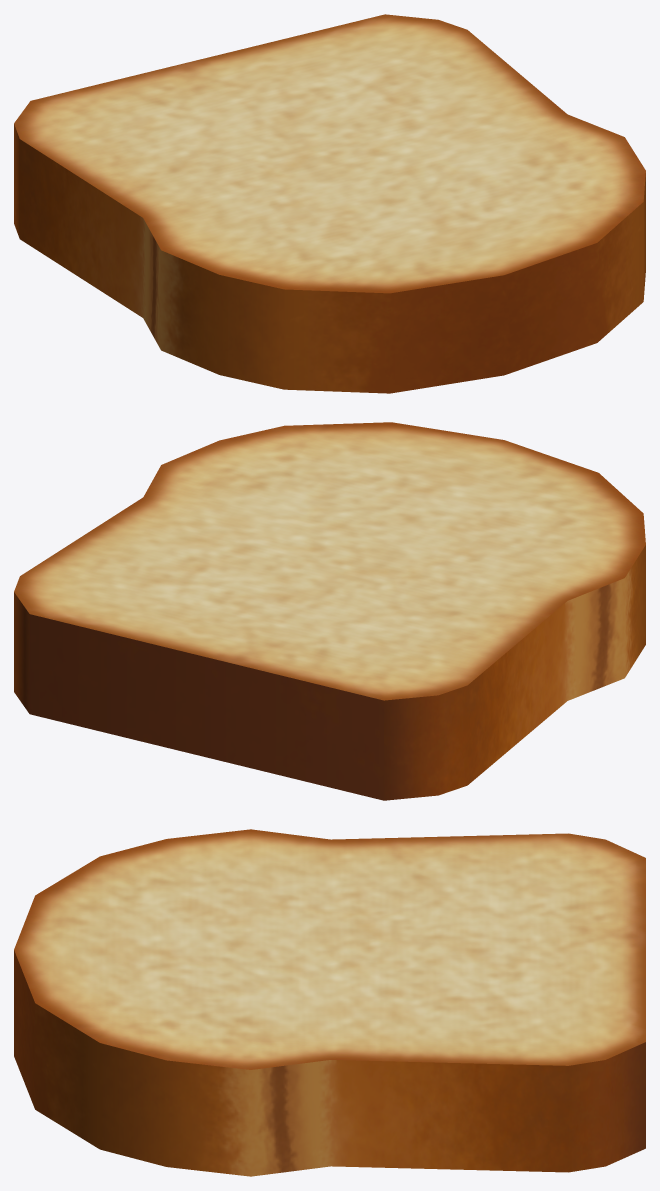
File: Loaf_Slice.fbx
The picture shows the model from 3 angles, top to bottom: view 1: azimuth 30°, elevation 25°; view 2: azimuth 150°, elevation 25°; view 3: azimuth 270°, elevation 25°; orthographic projection. The views are drawn at different scales.
Parts seen in each view (by area): view 1: Loaf_Slice; view 2: Loaf_Slice; view 3: Loaf_Slice.
Part boxes in pixels (box(x1,y1,x2,y2)): Loaf_Slice: box(14, 14, 645, 393); Loaf_Slice: box(14, 422, 645, 800); Loaf_Slice: box(14, 829, 645, 1176).
Size of the model in its own units: 39.11 by 8.08 by 43.39.
